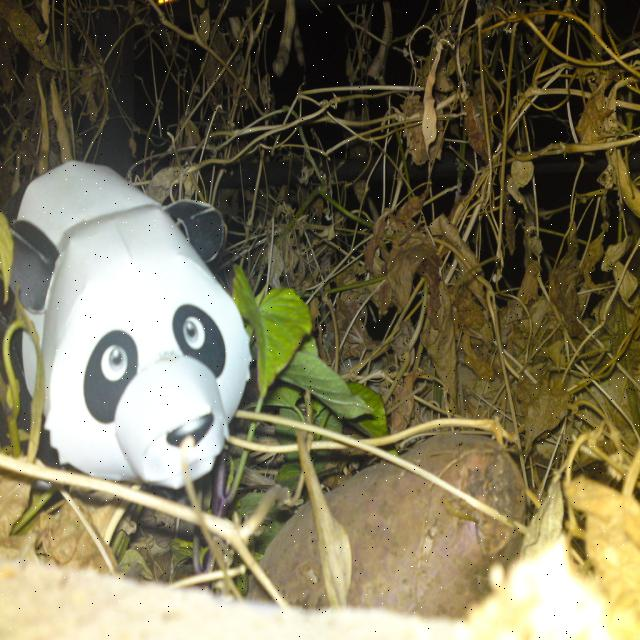panda: (0, 154, 250, 492)
